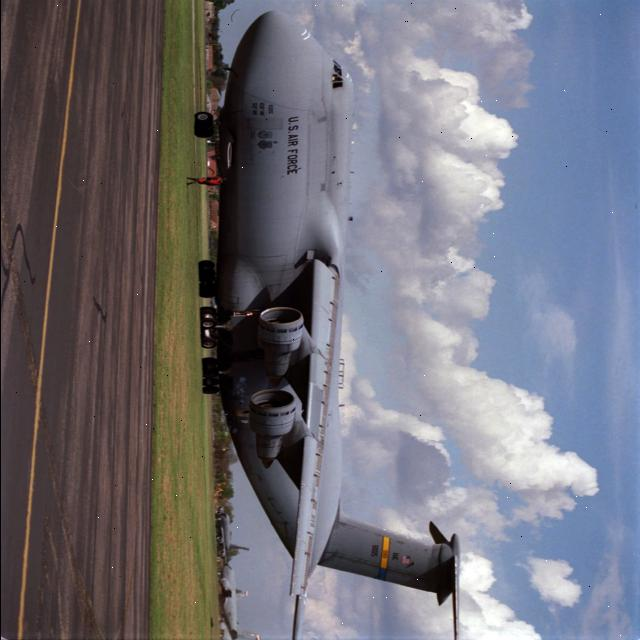C5: (168, 3, 484, 640)
